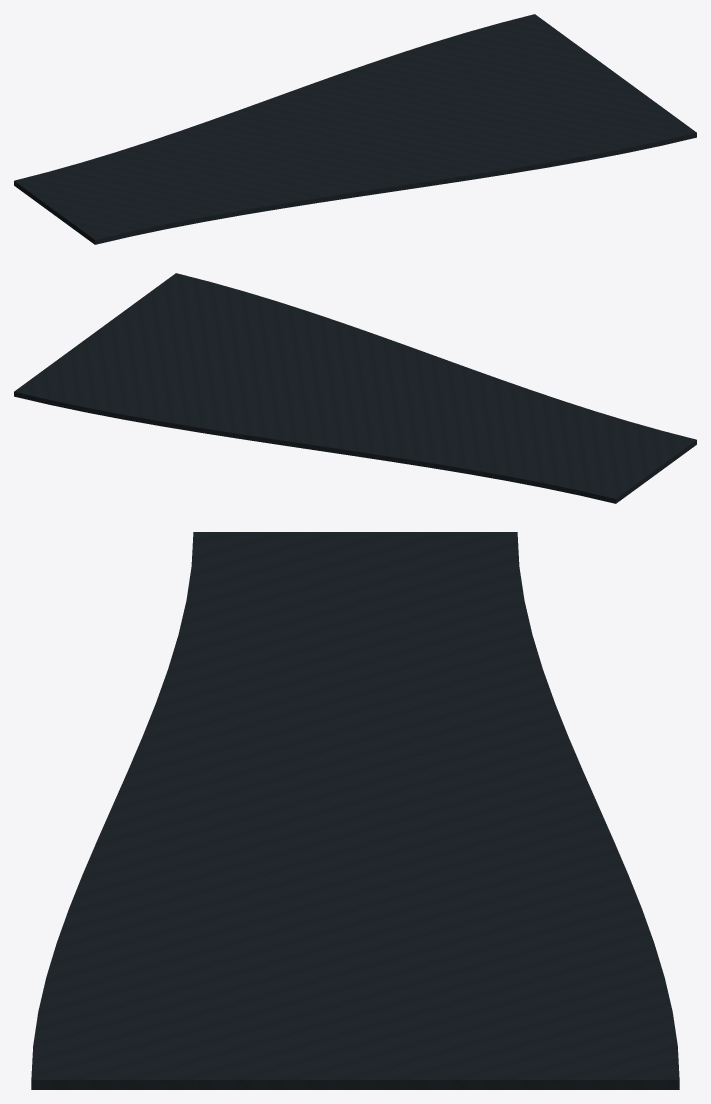
The model's file is Transit_Road_Taper_2L_4L_24m_Surface.glb.
3 views of the same model, one above another, from view 1: azimuth 30°, elevation 25°; view 2: azimuth 150°, elevation 25°; view 3: azimuth 270°, elevation 25° (orthographic). The views are drawn at different scales.
Visible parts, largest first — view 1: Transit_Road_Taper_2L_4L_24m_Surface; view 2: Transit_Road_Taper_2L_4L_24m_Surface; view 3: Transit_Road_Taper_2L_4L_24m_Surface.
Boxes of the visible parts, <box> form: Transit_Road_Taper_2L_4L_24m_Surface: <box>14,14,696,244</box>; Transit_Road_Taper_2L_4L_24m_Surface: <box>14,273,696,503</box>; Transit_Road_Taper_2L_4L_24m_Surface: <box>31,532,679,1089</box>.
Size of the model in its own units: 24 by 0.2 by 12.
1 material, 1 textured.
